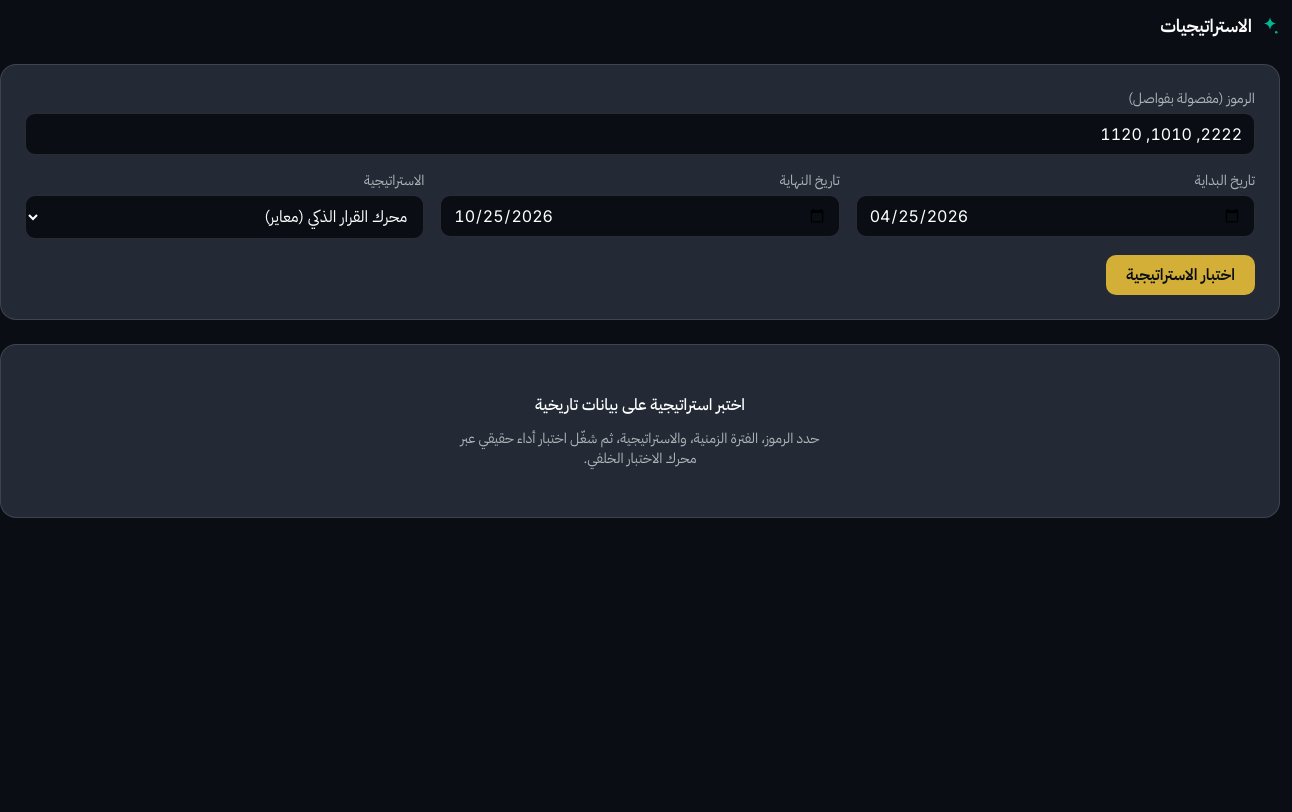
Test case: StrategiesPage › renders an Infinity profit_factor as the math symbol, not the literal string
Click the button "اختبار الاستراتيجية" at (1180, 275), box [1106,255,1255,295]
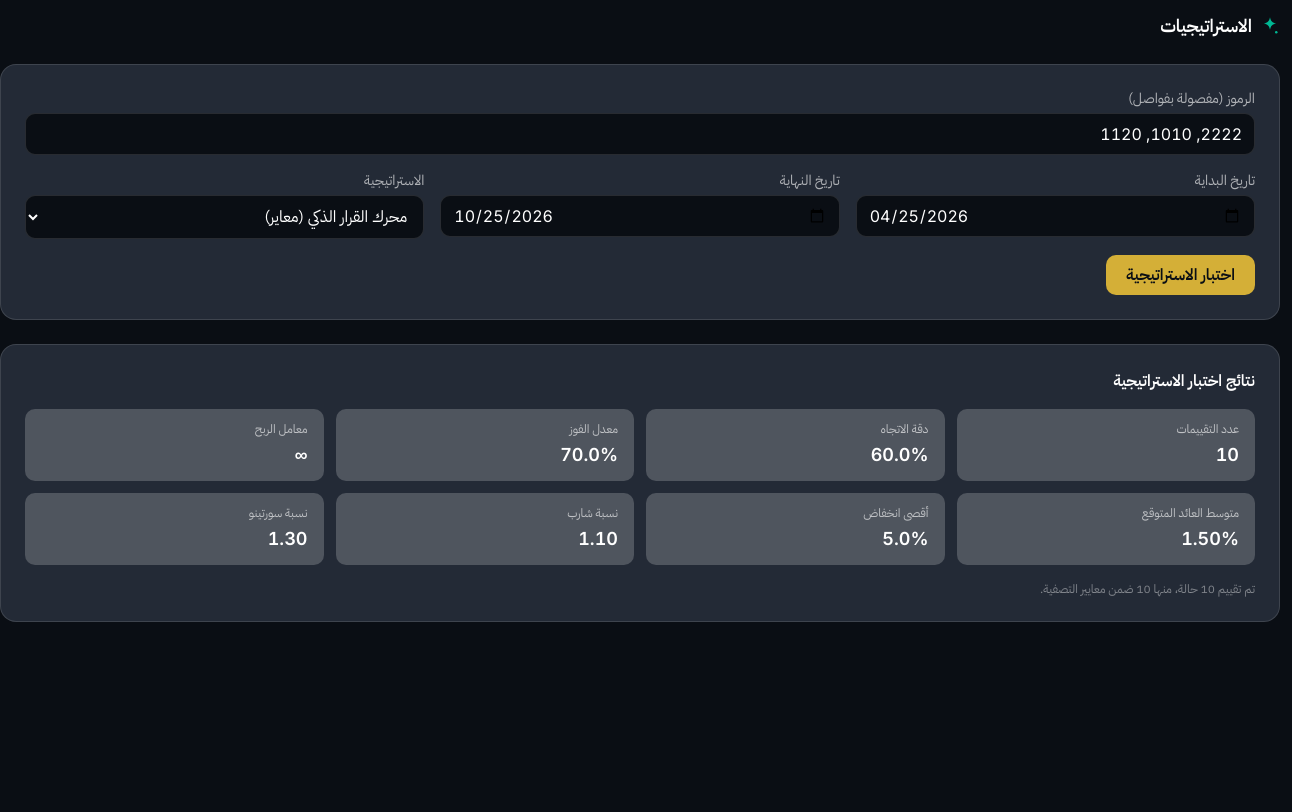
Now the text "∞" is shown, box [295,444,308,465]
